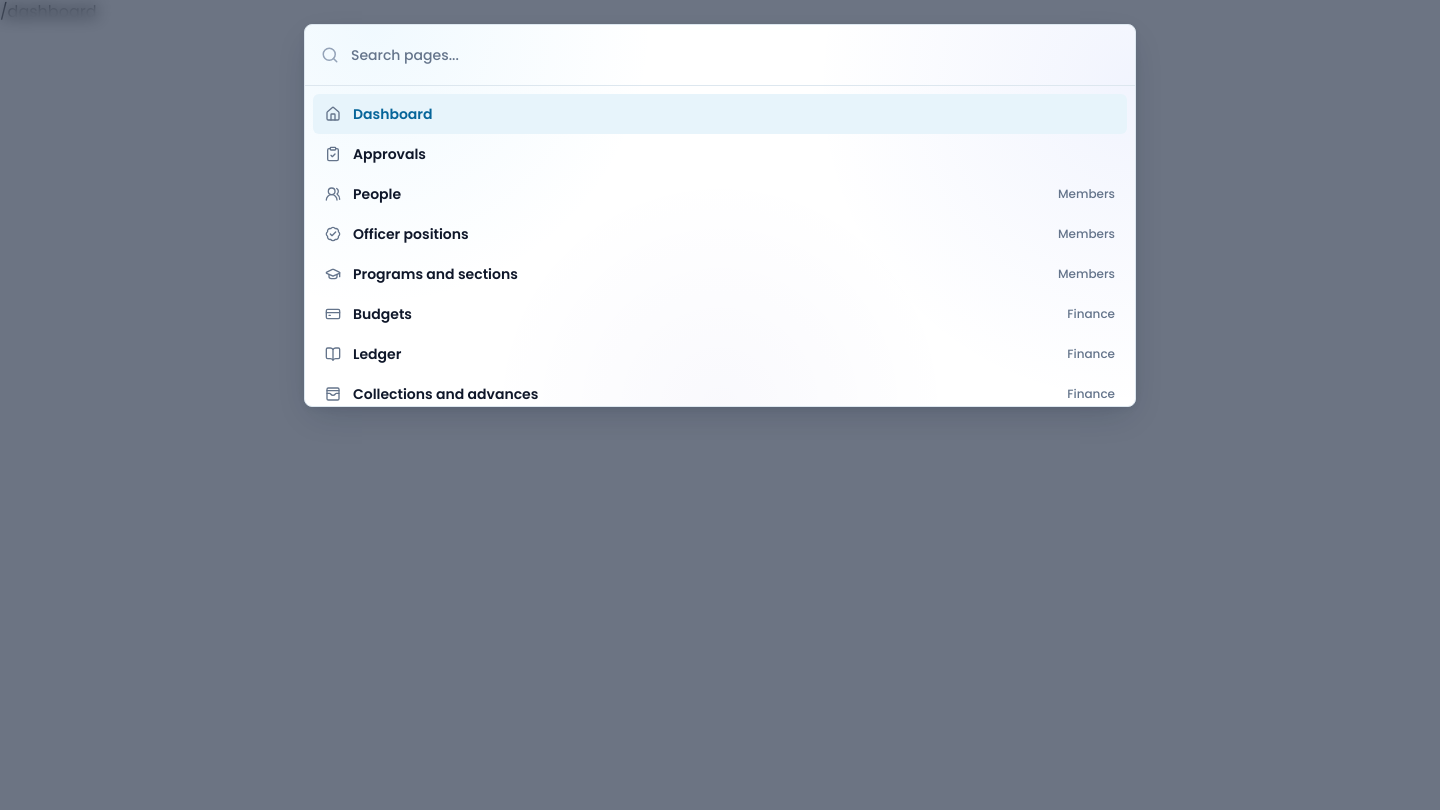
it: CommandPalette › finds ADMIN page by its old name Digital Ledger and shows the new label Ledger
Type "Digital Ledger" into the dropdown labelled "Search pages". click: (735, 55)
box: 351,37 -> 1119,73
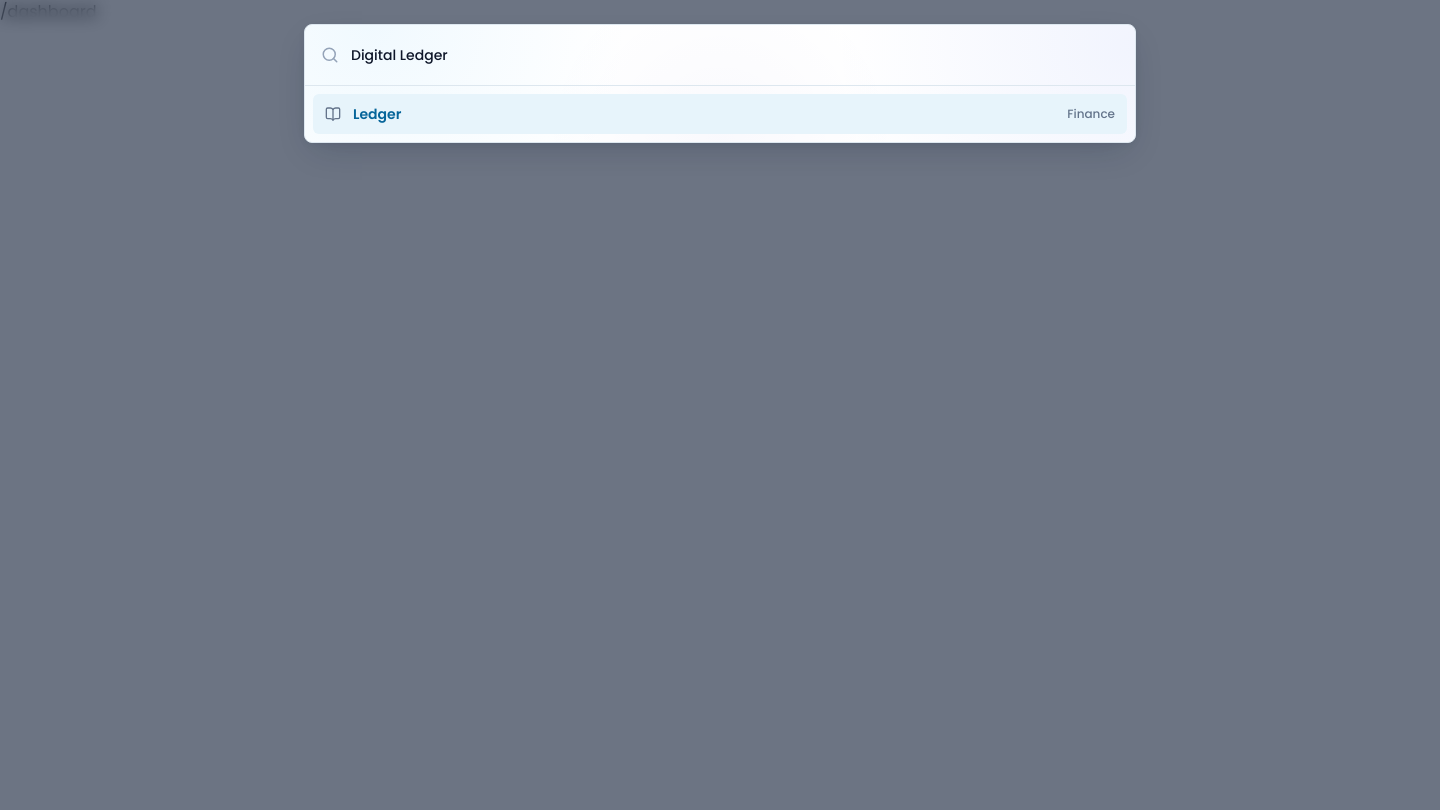
Check: the option shows "Ledger", box 313,94 -> 1127,134
Press Enter in the dropdown named "Search pages", box 351,37 -> 1119,73
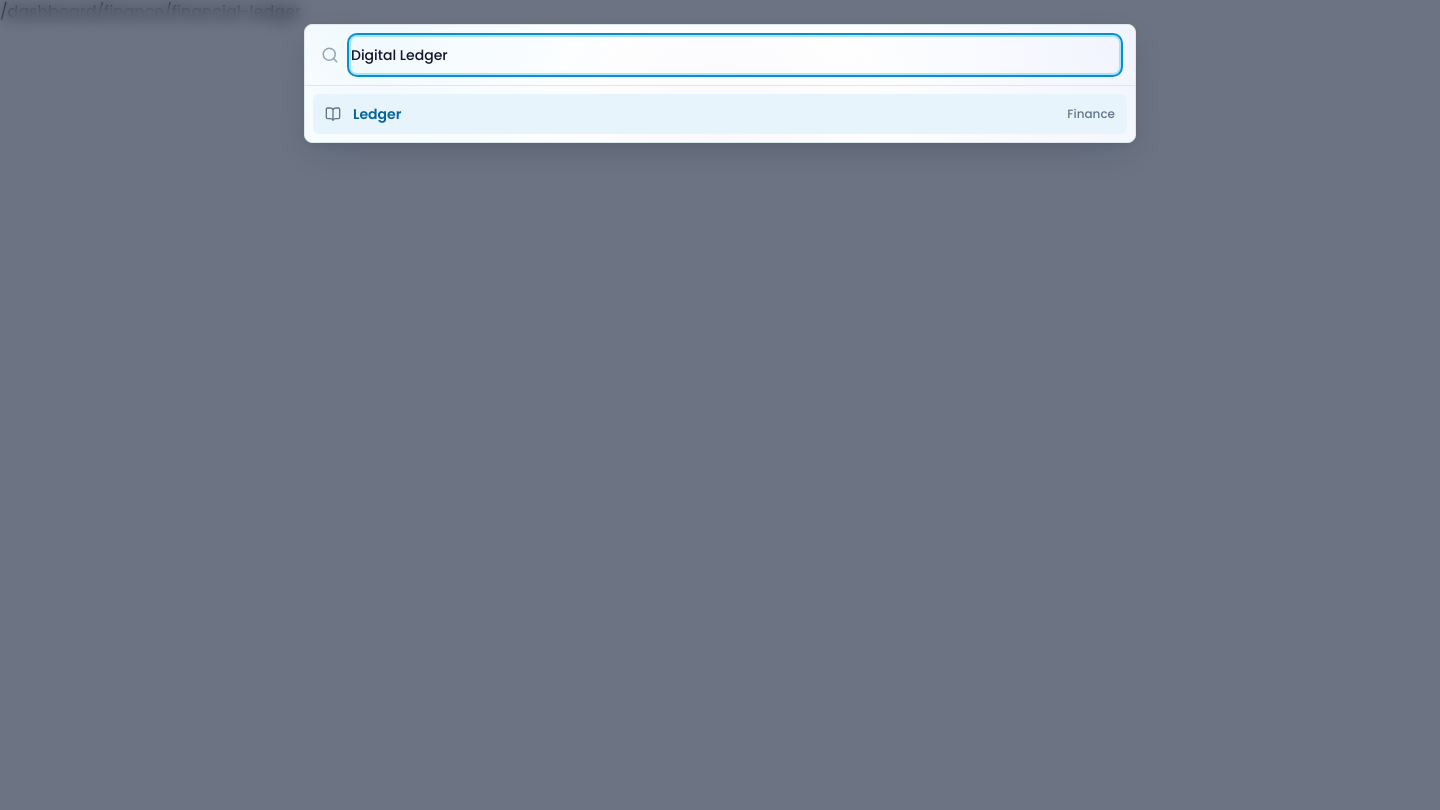
Check: the text with test id "path" reads "/dashboard/finance/financial-ledger", box 0,0 -> 301,23
